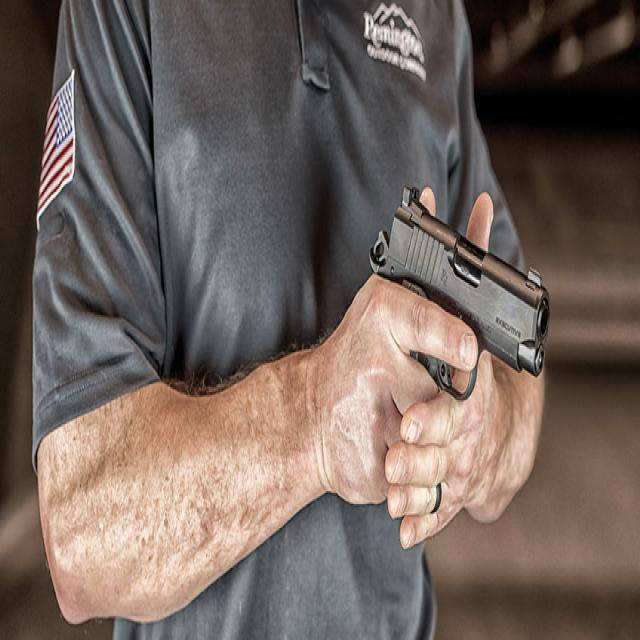HandGun: (369, 187, 550, 403)
